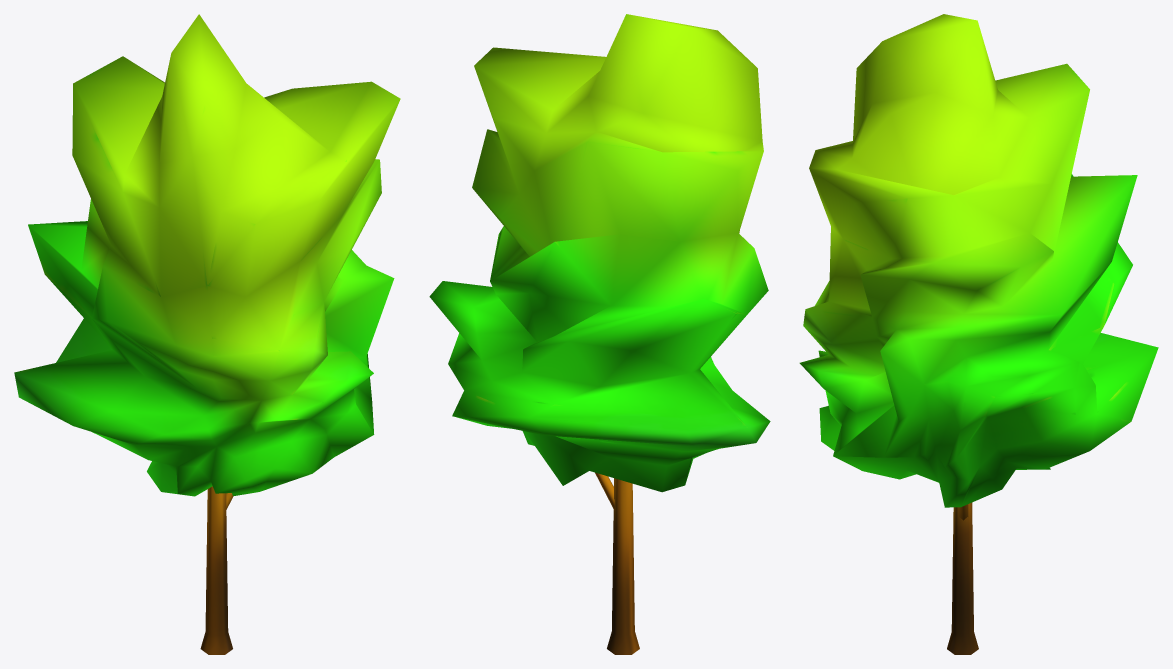
The model's file is TreeStyle3Blue_08.fbx.
The picture shows the model from 3 angles, left to right: view 1: azimuth 30°, elevation 25°; view 2: azimuth 150°, elevation 25°; view 3: azimuth 270°, elevation 25°; orthographic projection. The views are drawn at different scales.
Parts seen in each view (by area): view 1: TreeStyle3_08; view 2: TreeStyle3_08; view 3: TreeStyle3_08.
Part boxes in pixels (box(x1,y1,x2,y2)): TreeStyle3_08: box(14, 14, 400, 654); TreeStyle3_08: box(429, 14, 770, 654); TreeStyle3_08: box(799, 14, 1158, 654).
Size of the model in its own units: 706 by 1303 by 681.
